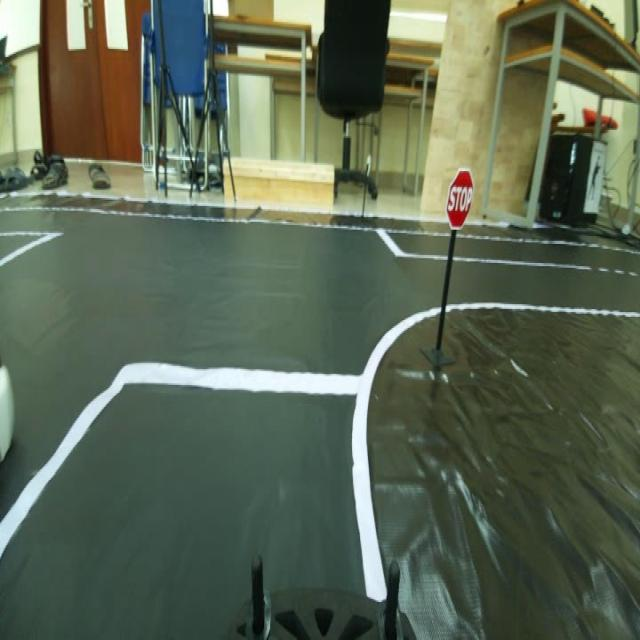stop: (442, 167, 478, 227)
